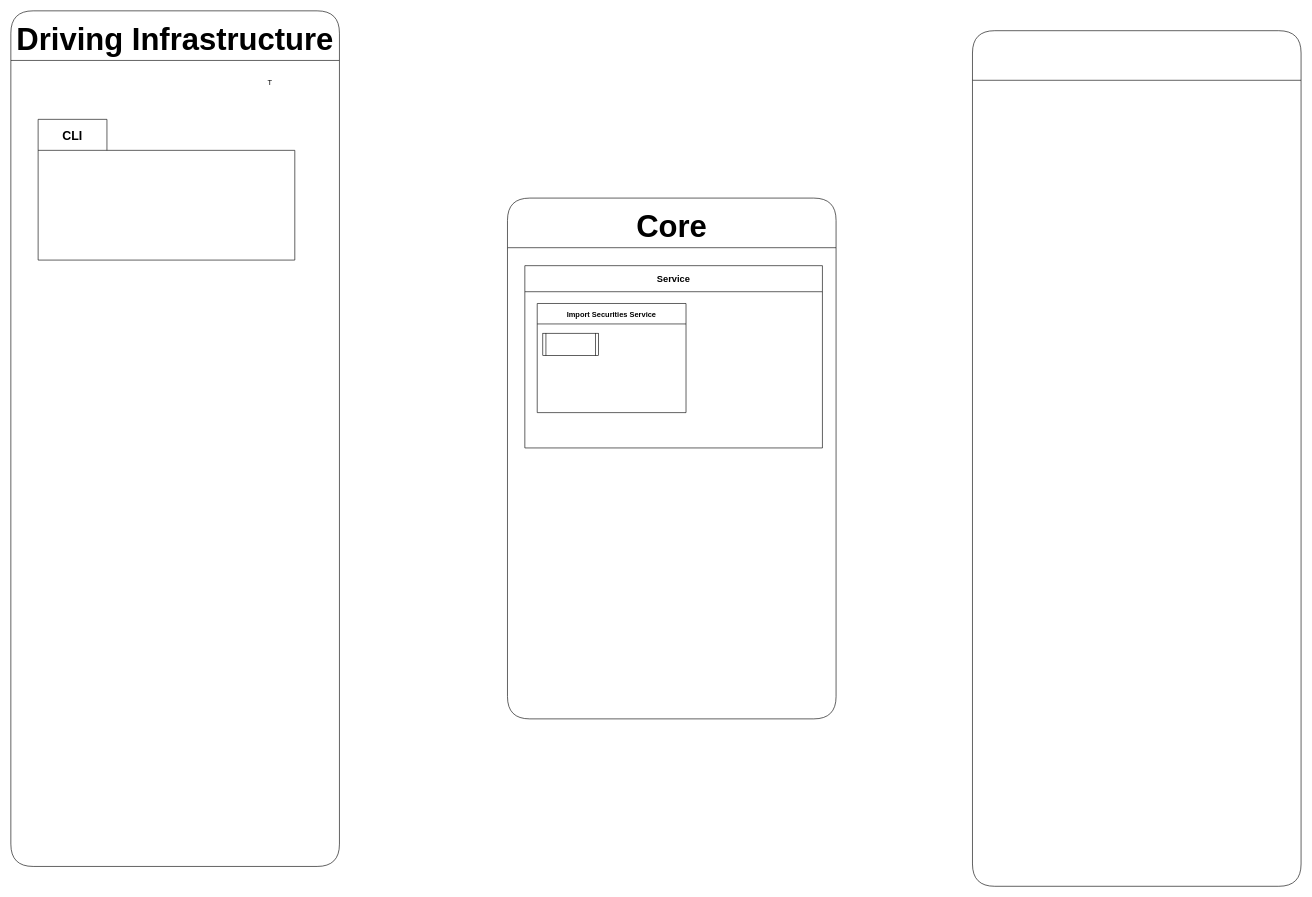
Some shapes in this 1312 by 897 pixel diagram are drawn without their labels. Each missing label, with the centre of its shape:
"Classifier1" goes at (x=570, y=344).
"Driven Infrastructure" goes at (x=1136, y=458).
